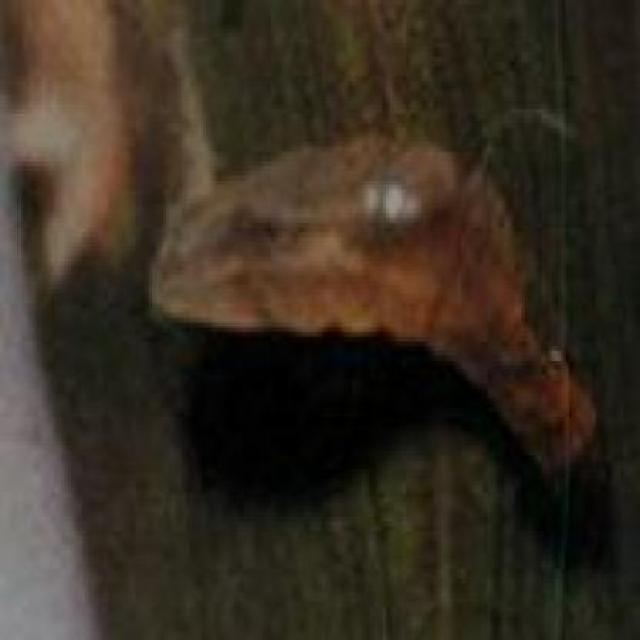whorl-maggot: (141, 134, 602, 495)
